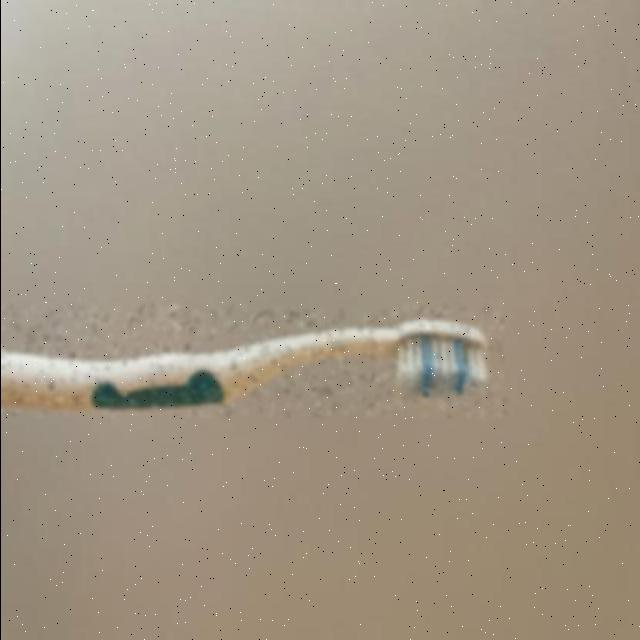toothbrush: (0, 306, 504, 416)
